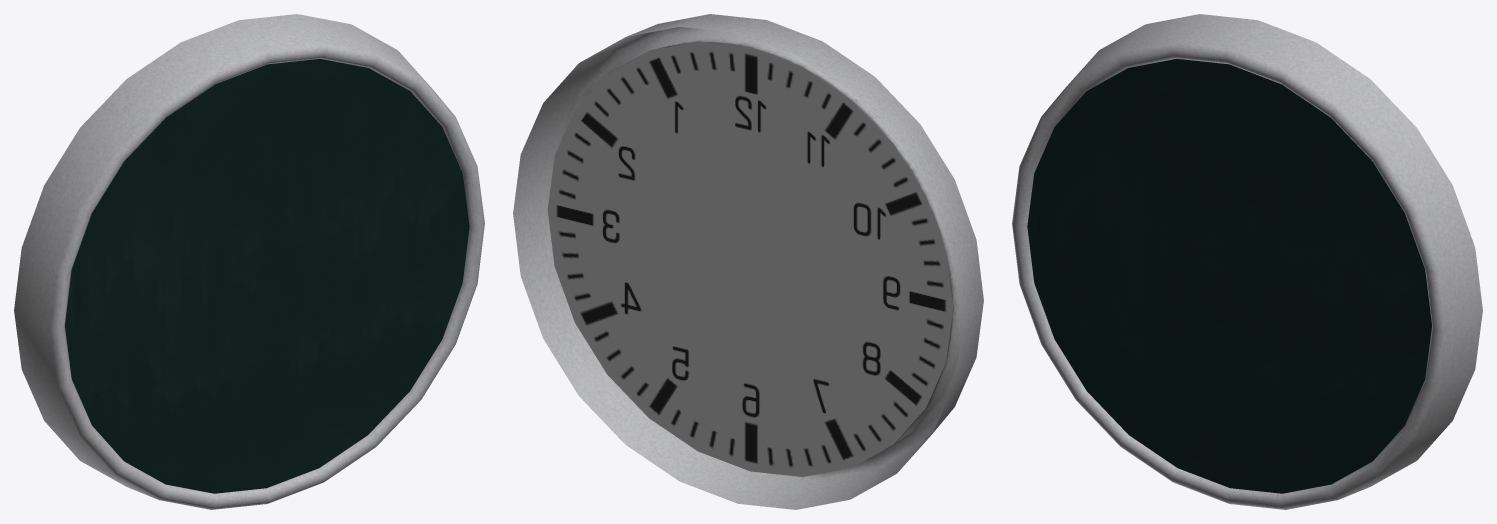
File: Clock.fbx
3 views of the same model, side by side, from view 1: azimuth 30°, elevation 25°; view 2: azimuth 150°, elevation 25°; view 3: azimuth 330°, elevation 25° (orthographic).
Parts seen in each view (by area): view 1: Clock; view 2: Clock; view 3: Clock.
Part boxes in pixels (x1,y1,x2,y2): Clock: (14,14,484,509); Clock: (513,14,983,509); Clock: (1012,14,1482,509).
Size of the model in its own units: 41.71 by 41.71 by 5.
